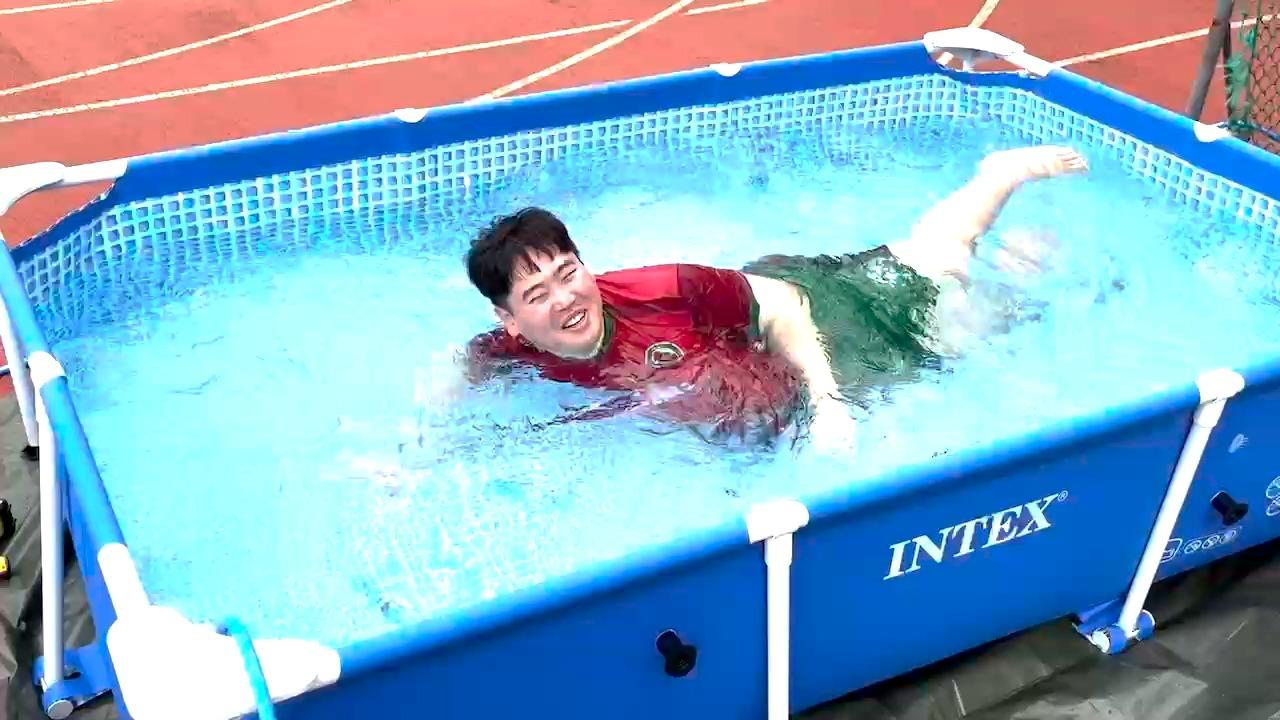Swimming: (355, 79, 1085, 480)
